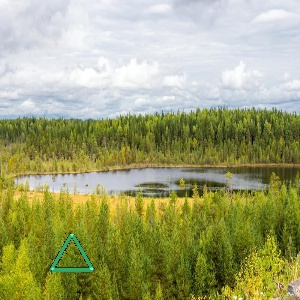triangle: (43, 230, 96, 277)
